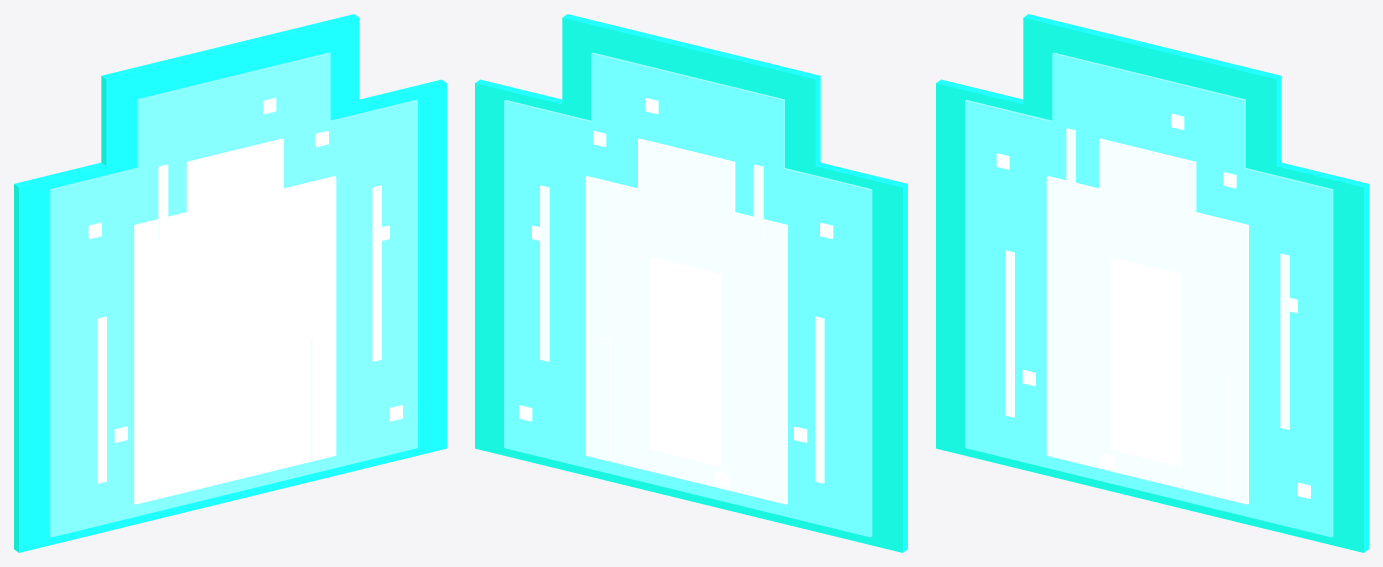
The model's file is tt-portal-teal.glb.
3 views of the same model, side by side, from view 1: azimuth 30°, elevation 25°; view 2: azimuth 150°, elevation 25°; view 3: azimuth 330°, elevation 25° (orthographic).
Visible parts, largest first — view 1: box-prop; view 2: box-prop; view 3: box-prop.
Part boxes in pixels (<box>): box-prop: <box>14,14,446,552</box>; box-prop: <box>475,14,907,552</box>; box-prop: <box>936,14,1368,552</box>.
Bounding box in the file's own units: 4.9 × 4.95 × 0.3.
